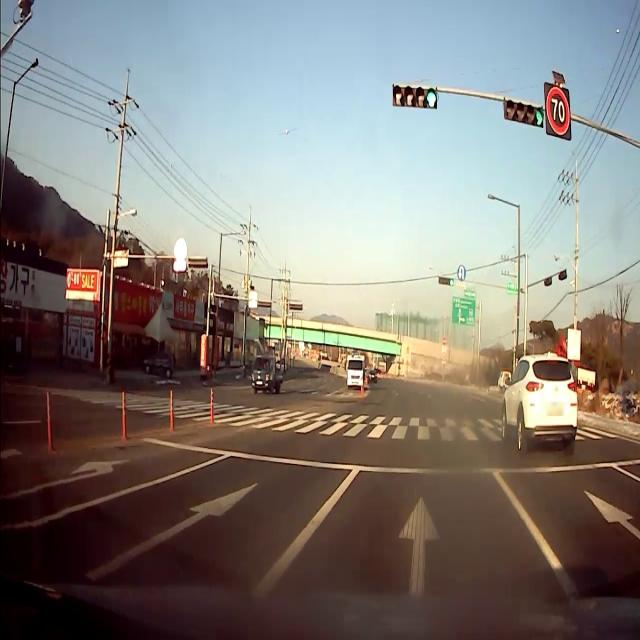Green Light: (422, 85, 438, 111), (534, 103, 545, 131), (449, 276, 455, 288)
